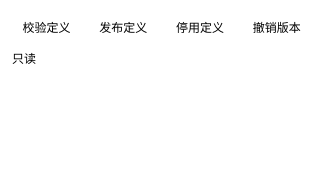
Scenario: DefinitionLifecycle semantic DOM › keeps built-in lifecycle mutations disabled while retaining safe validation
Expected: the text "只读" is shown, [12, 50, 36, 67]
Expected: the button "发布定义" is disabled, [89, 12, 158, 43]
Click the button "校验定义": x=46, y=28 [12, 12, 81, 43]
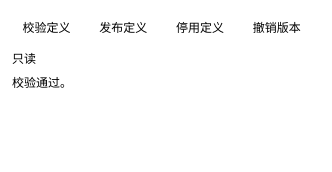
Expected: the text "校验通过。" is shown, [12, 74, 72, 91]
